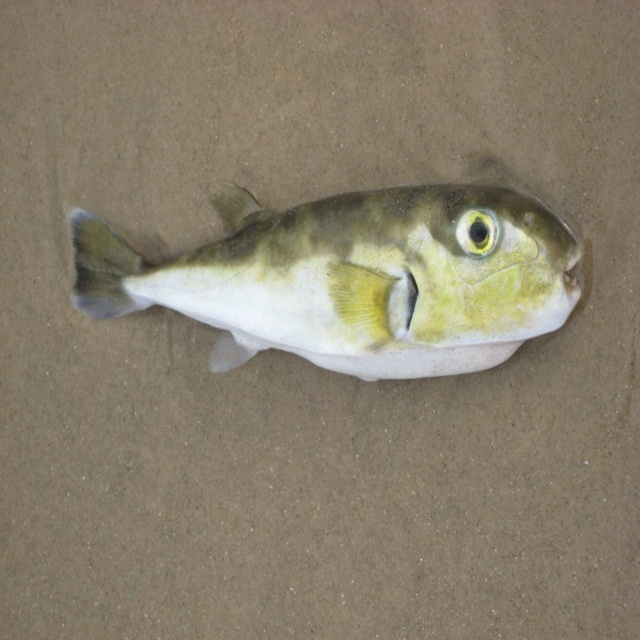Fish: (66, 178, 585, 375)
